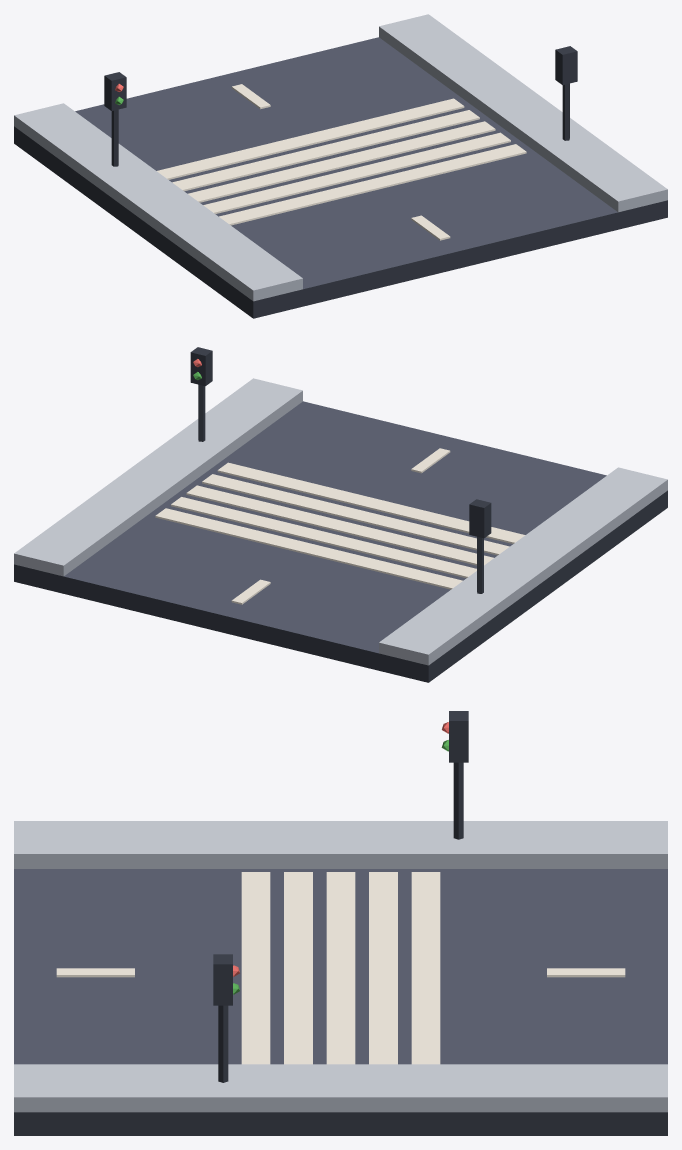
File: road_crosswalk.glb
3 renders of one model, top to bottom at view 1: azimuth 30°, elevation 25°; view 2: azimuth 150°, elevation 25°; view 3: azimuth 270°, elevation 25°, orthographic. The views are drawn at different scales.
Parts seen in each view (by area): view 1: road_crosswalk; view 2: road_crosswalk; view 3: road_crosswalk.
Part boxes in pixels (x1,y1,x2,y2): road_crosswalk: (14,14,667,318); road_crosswalk: (14,347,667,682); road_crosswalk: (14,711,667,1135).
Size of the model in its own units: 1 by 0.27 by 1.
